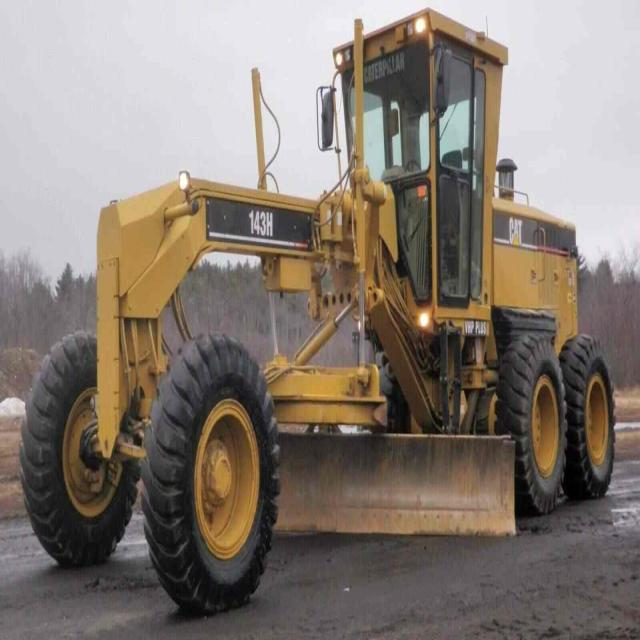buldozerpayloadergrader: (0, 24, 623, 598)
